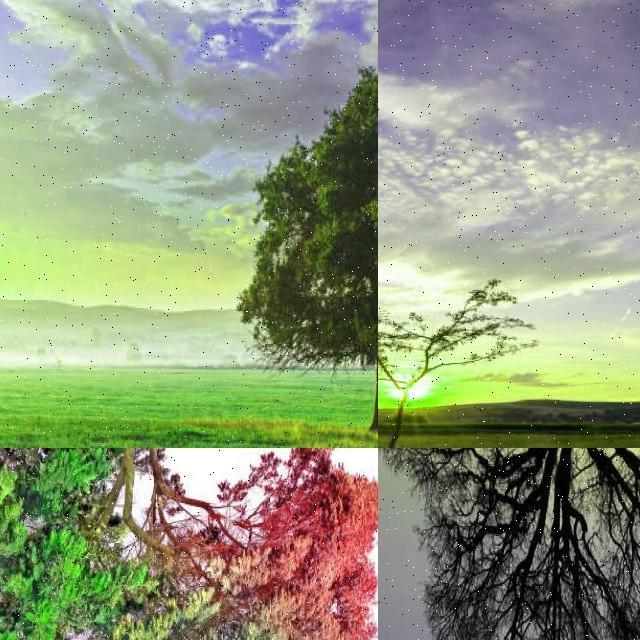tree: (0, 448, 378, 640), (238, 47, 378, 431), (378, 448, 640, 640), (378, 272, 548, 448)
